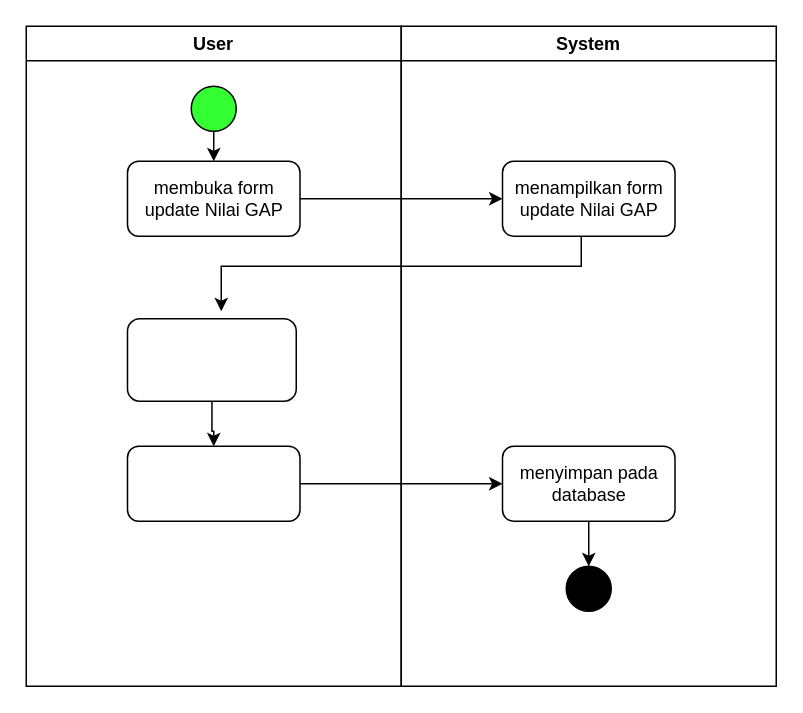
Some shapes in this 803 by 713 pixel diagram are drawn without their labels. The shapes that lost their labels are listed below. From the top down, each one's centre as x and y in pixels, then its label:
the point at 211,359: memasukkan nilai, bobot dan keterangan yang baru
the point at 213,483: menekan button simpan
